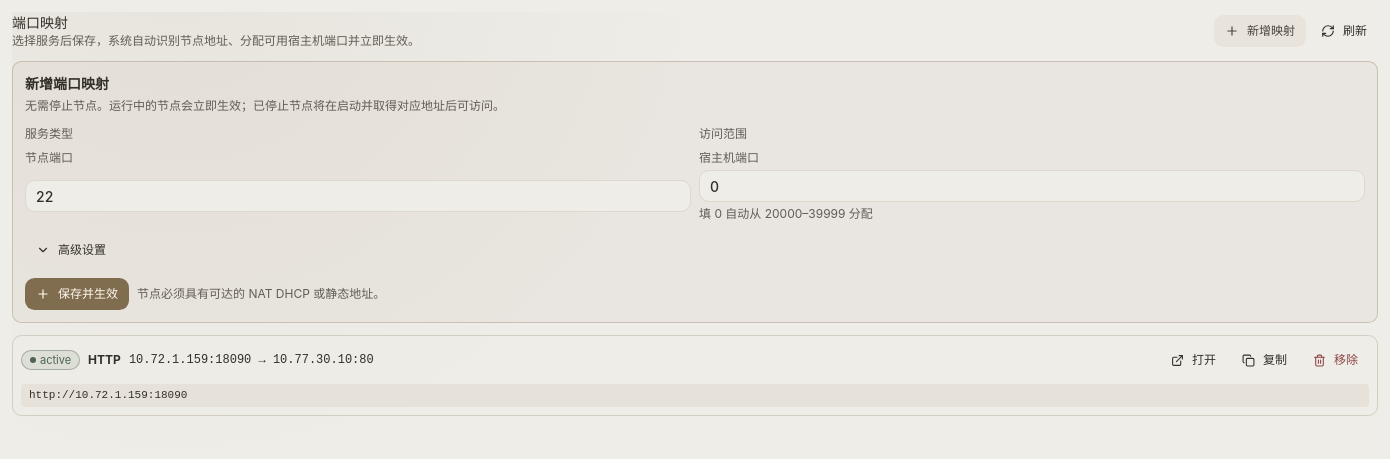
Test: PortMappingsPanel › loads durable mappings and copies a usable access URL
Click the button "复制": (1264, 360) 1231,344 -> 1298,376
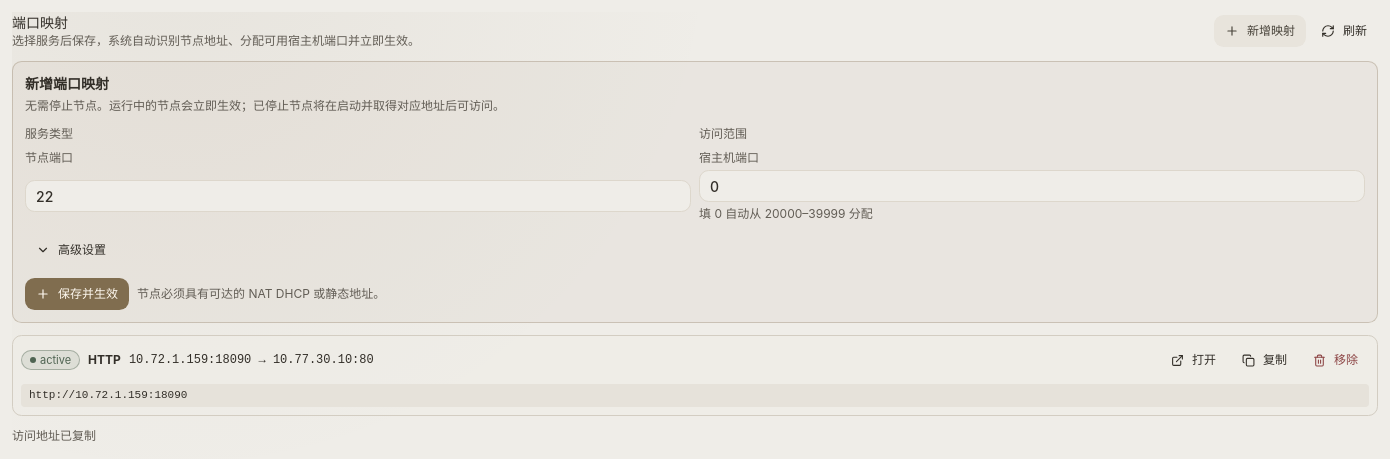
Result: the text "访问地址已复制" is shown at 12,428 -> 96,443
